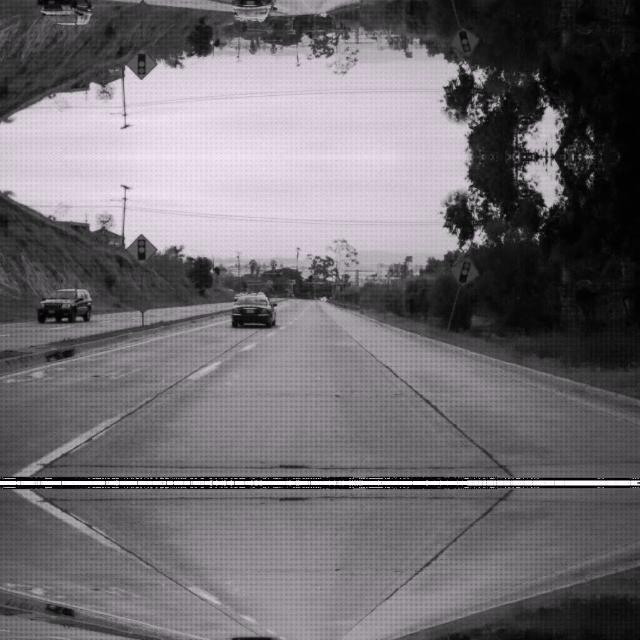signalAhead: (124, 233, 156, 265), (124, 47, 156, 79), (450, 254, 480, 286), (450, 27, 480, 58)
